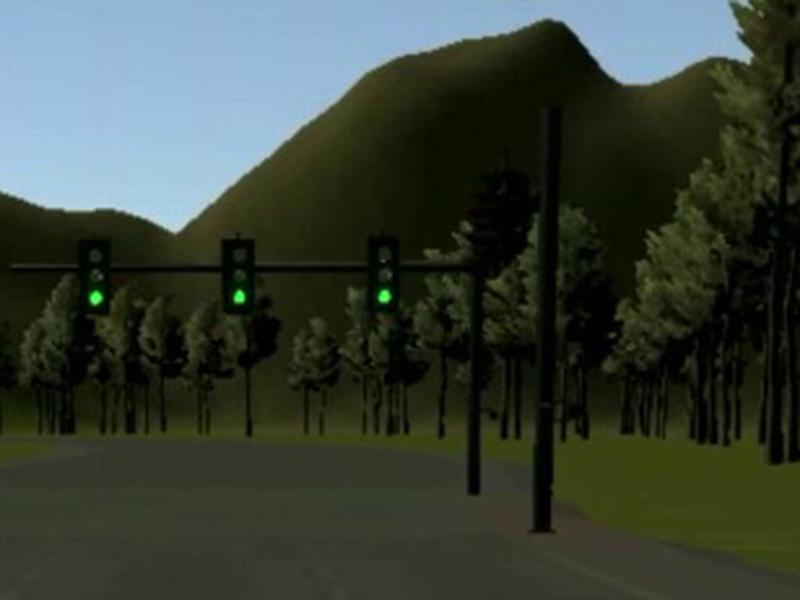Green: (365, 236, 401, 313), (77, 239, 112, 316), (222, 238, 256, 316)
